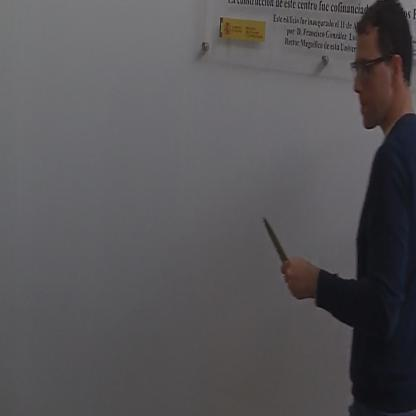knife: (258, 208, 304, 303)
